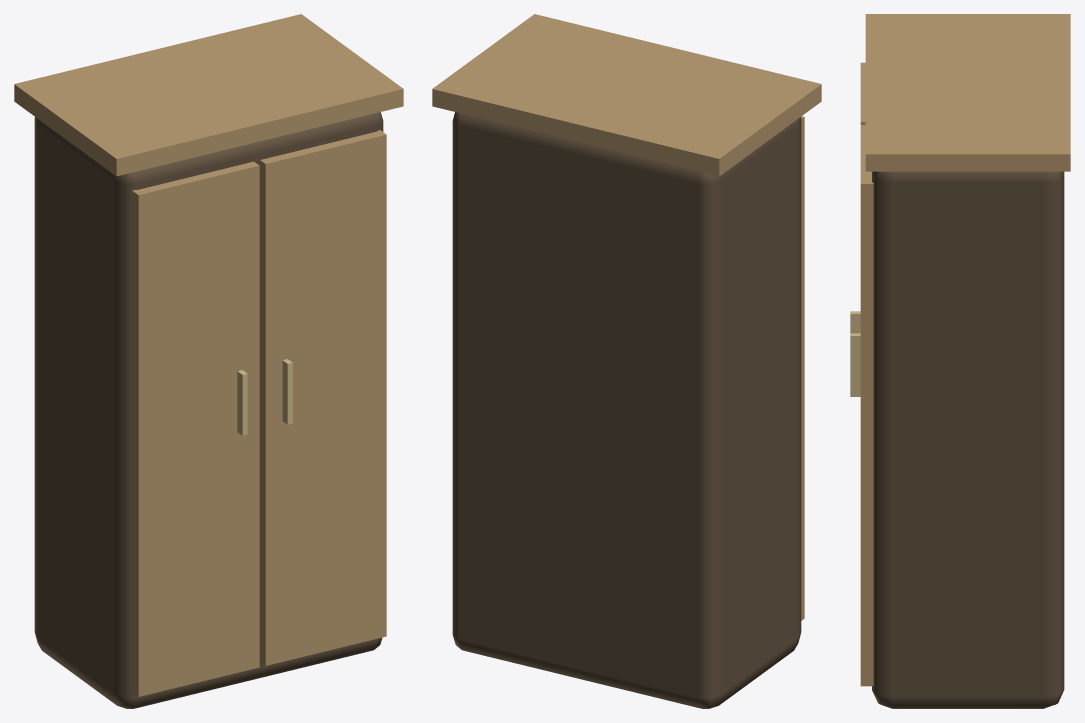
The model's file is cabinet.glb.
The picture shows the model from 3 angles, left to right: view 1: azimuth 30°, elevation 25°; view 2: azimuth 150°, elevation 25°; view 3: azimuth 270°, elevation 25°; orthographic projection.
Size of the model in its own units: 1.04 by 1.95 by 0.6875.
